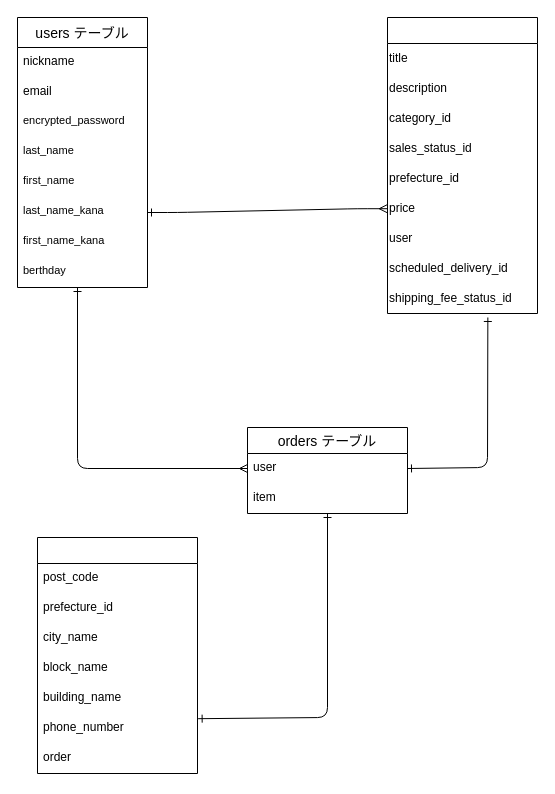
Image size: 555x794. Some labels were removed from this diagram. The shapes that lost their labels are listed below. From the top down, each one's box as (x1, y1, x2, y2) in pixels, then its label:
(386, 16, 538, 314): items テーブル
(36, 536, 198, 774): addresses テーブル
